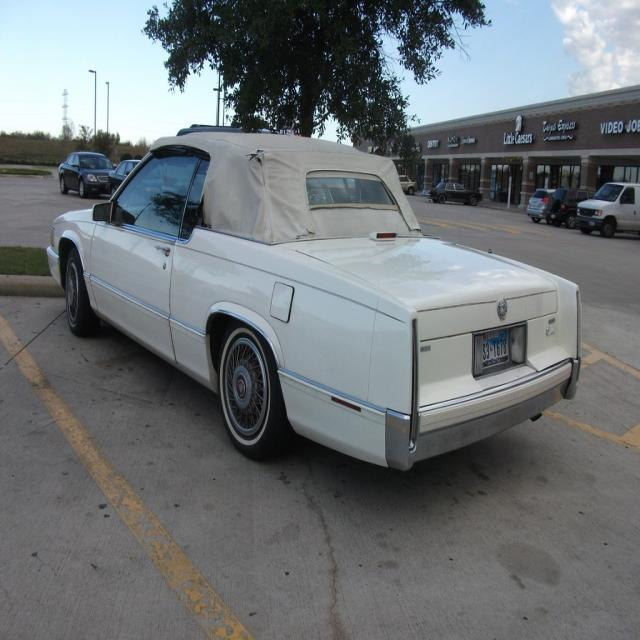car: (44, 125, 580, 467), (420, 175, 488, 205)
